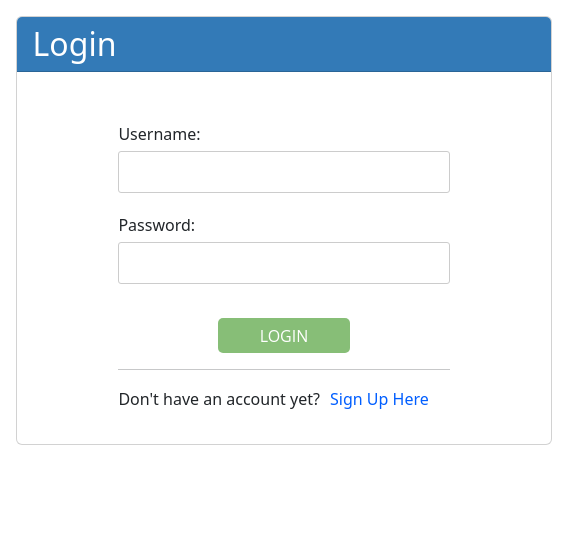
Test: AccountLogin Component › should show invalid credential error message when user login fails
The width and height of the screenshot is (569, 560).
Type "TESTUSER" into the field labelled "Username:" at [284, 172], box [118,151,450,193]
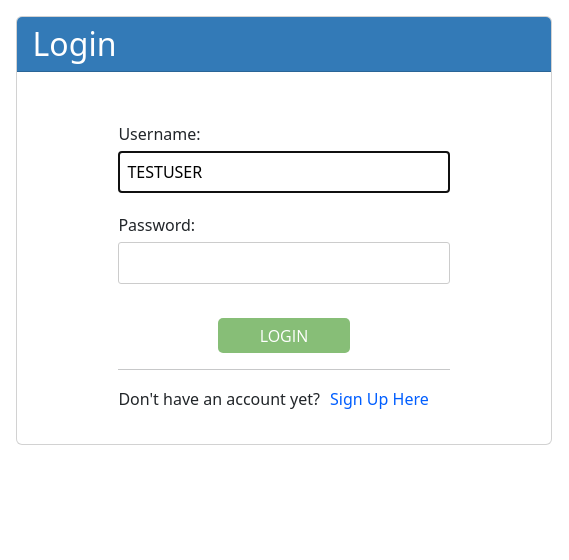
Type "password" into the password field labelled "Password:" at [284, 263], box [118,242,450,284]
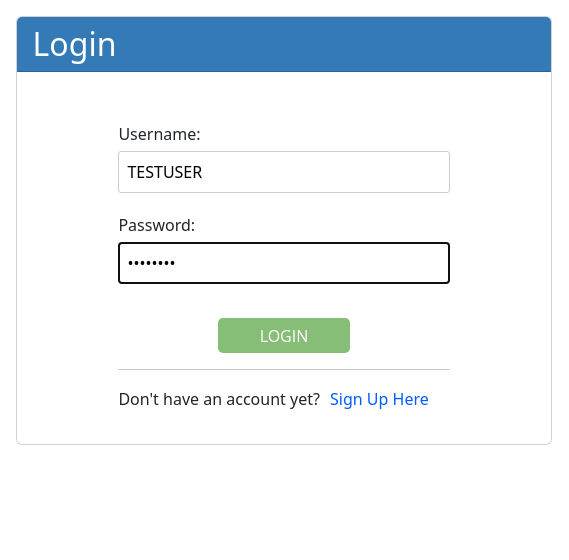
Click the button "Login" at [284, 336], box [218,318,350,353]
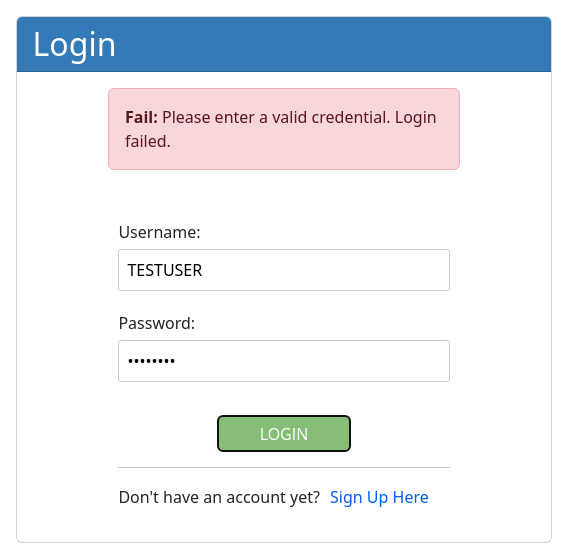
Expected: the text "Fail: Please enter a valid credential. Login failed." is shown, [108,88,460,170]
